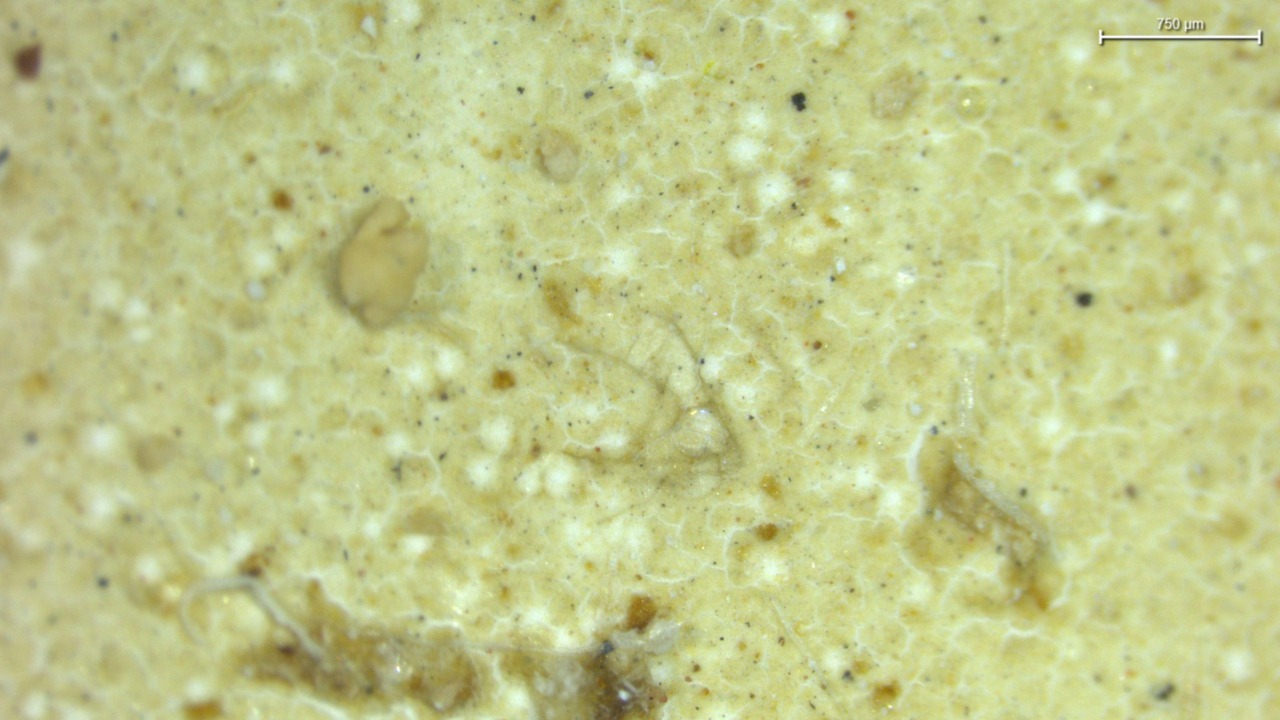microplastic_fragment: (337, 203, 434, 334), (539, 133, 577, 181)
